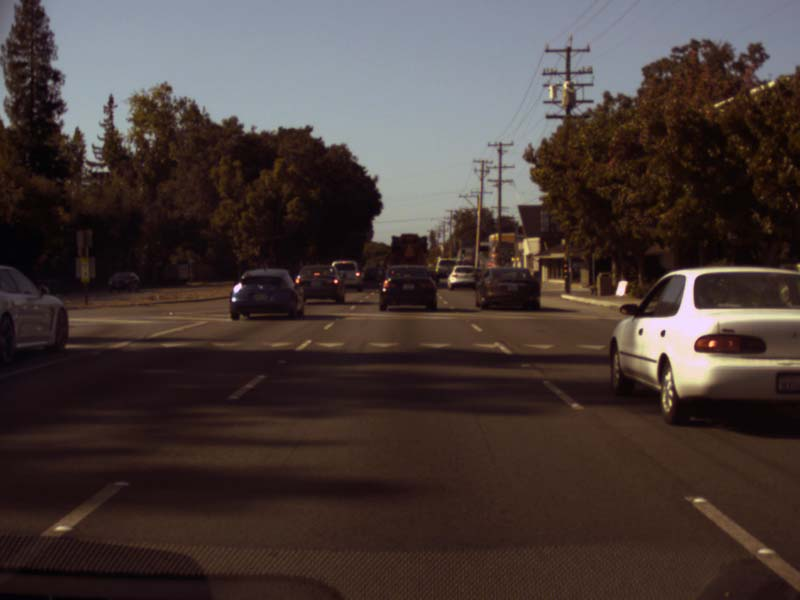Green: (452, 249, 456, 259), (461, 249, 465, 256)
